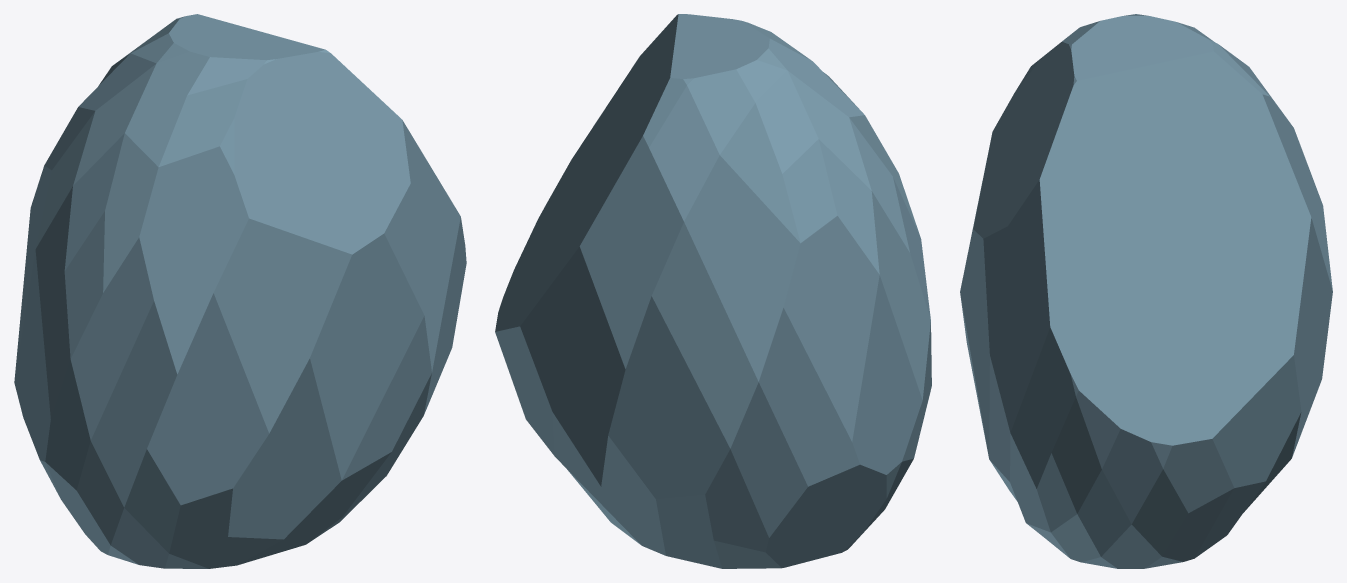
File: rock_001c_reef_boulder.glb
3 renders of one model, left to right at view 1: azimuth 30°, elevation 25°; view 2: azimuth 150°, elevation 25°; view 3: azimuth 270°, elevation 25°, orthographic.
Visible parts, largest first — view 1: rock_001c_reef_boulder__mesh; view 2: rock_001c_reef_boulder__mesh; view 3: rock_001c_reef_boulder__mesh.
Part boxes in pixels (x1=…): rock_001c_reef_boulder__mesh: x1=14, y1=14, x2=466, y2=568; rock_001c_reef_boulder__mesh: x1=495, y1=14, x2=931, y2=568; rock_001c_reef_boulder__mesh: x1=960, y1=14, x2=1332, y2=568.
Bounding box in the file's own units: 1.22 × 1.39 × 0.975.
